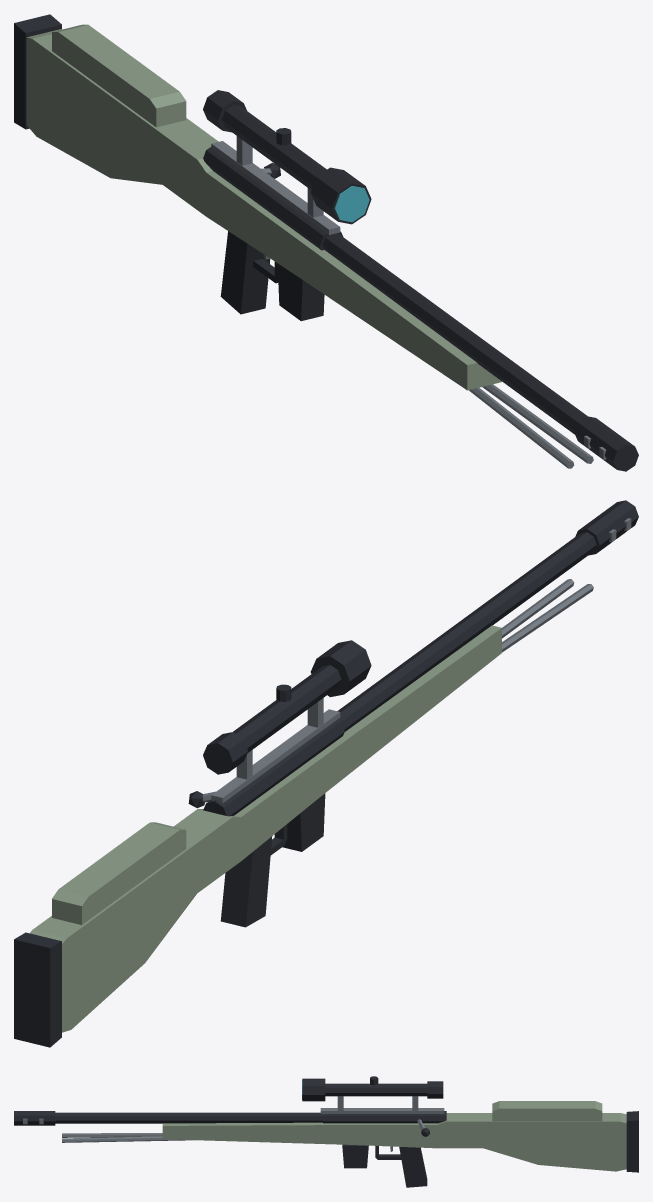
File: sniper_rifle.glb
3 views of the same model, one above another, from view 1: azimuth 30°, elevation 25°; view 2: azimuth 150°, elevation 25°; view 3: azimuth 270°, elevation 25° (orthographic). The views are drawn at different scales.
Visible parts, largest first — view 1: sniper_rifle_mesh; view 2: sniper_rifle_mesh; view 3: sniper_rifle_mesh.
Part boxes in pixels (bbox=[...]): sniper_rifle_mesh: bbox=[14, 14, 638, 471]; sniper_rifle_mesh: bbox=[14, 500, 638, 1047]; sniper_rifle_mesh: bbox=[14, 1076, 638, 1187].
Bounding box in the file's own units: 0.0858 × 0.257 × 1.37.
1 material, 1 textured.
